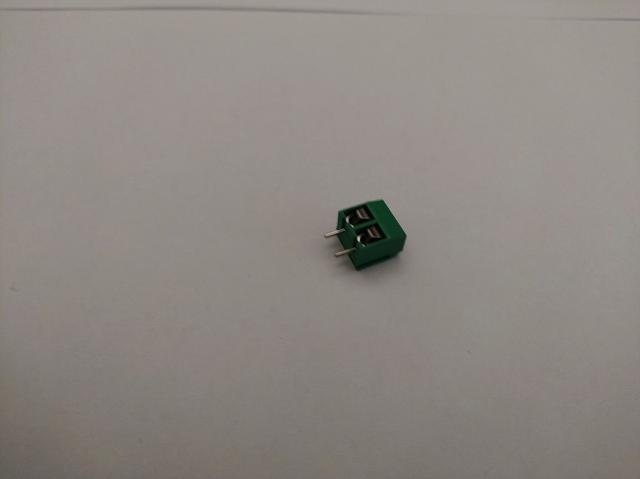terminal_block: (324, 200, 406, 270)
